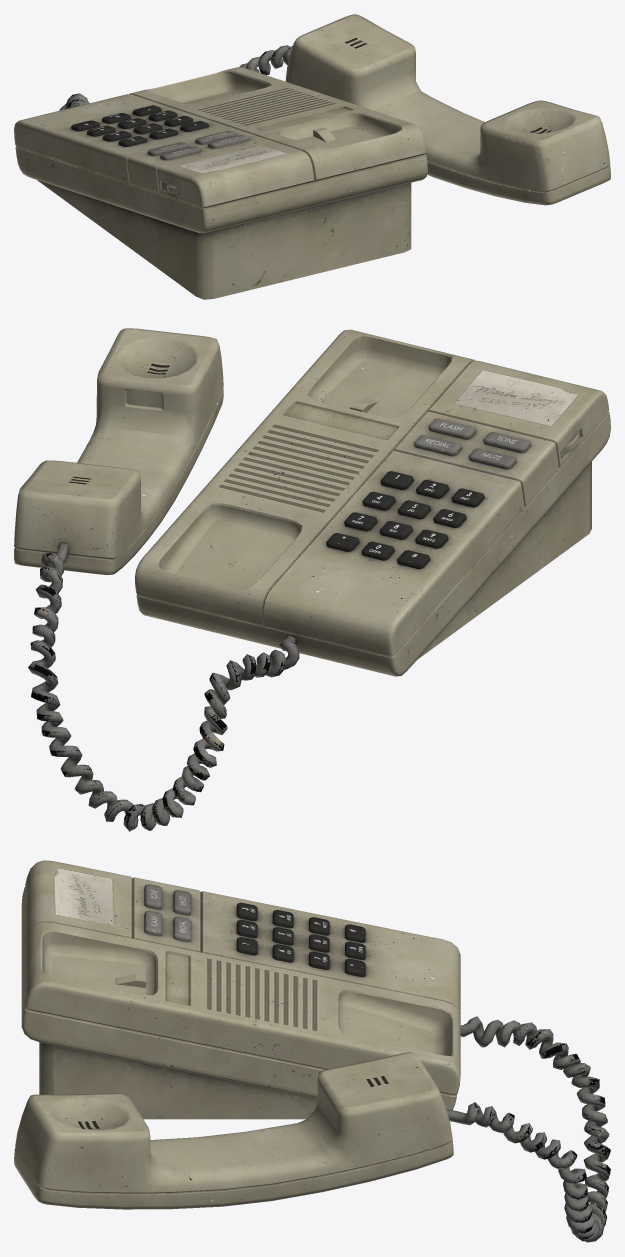
File: phone.glb
3 renders of one model, top to bottom at view 1: azimuth 30°, elevation 25°; view 2: azimuth 150°, elevation 25°; view 3: azimuth 270°, elevation 25°, orthographic. The views are drawn at different scales.
Parts seen in each view (by area): view 1: Phone; view 2: Phone; view 3: Phone.
Part boxes in pixels (<box>): Phone: <box>14,14,610,299</box>; Phone: <box>14,328,610,831</box>; Phone: <box>14,860,610,1242</box>.
Size of the model in its own units: 29.77 by 16.8 by 32.33.
Materials: 1 (1 with a texture image).
